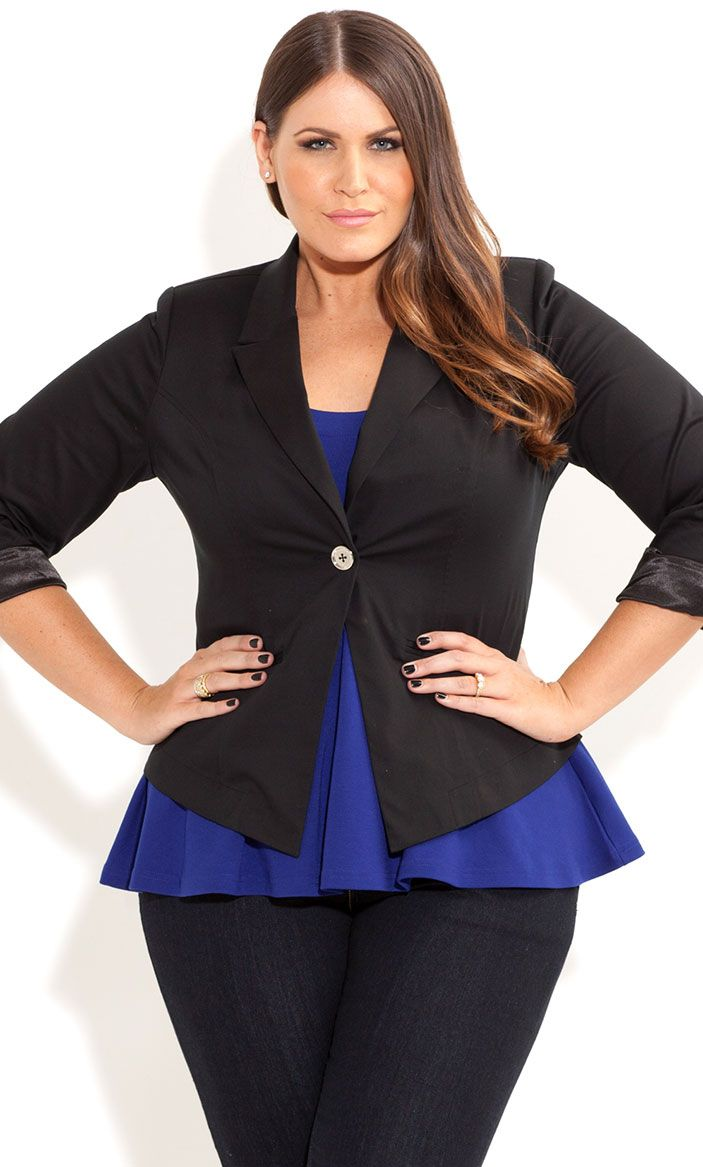F_W_suit jacket: (7, 261, 702, 827)
